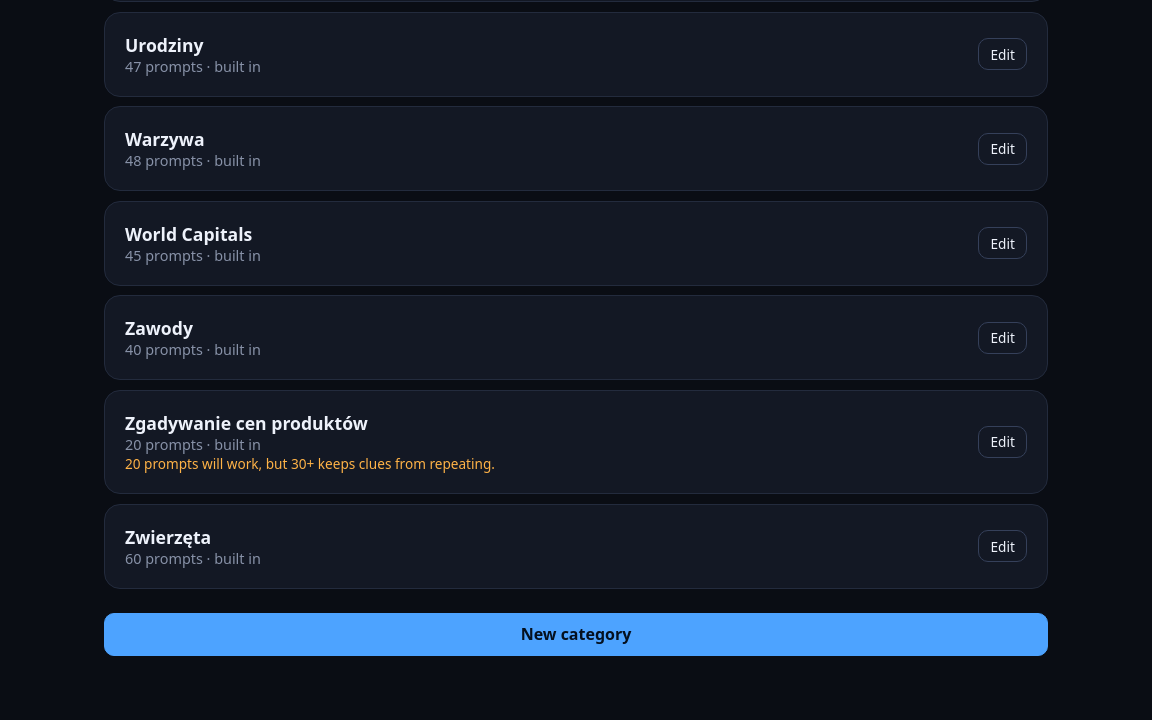
Scenario: CategoryEditorScreen › warns that a thin category cannot be used in a duel
The width and height of the screenshot is (1152, 720).
(page scrolled)
Click the button "New category": x=576, y=634 [104,612,1048,656]
(page scrolled)
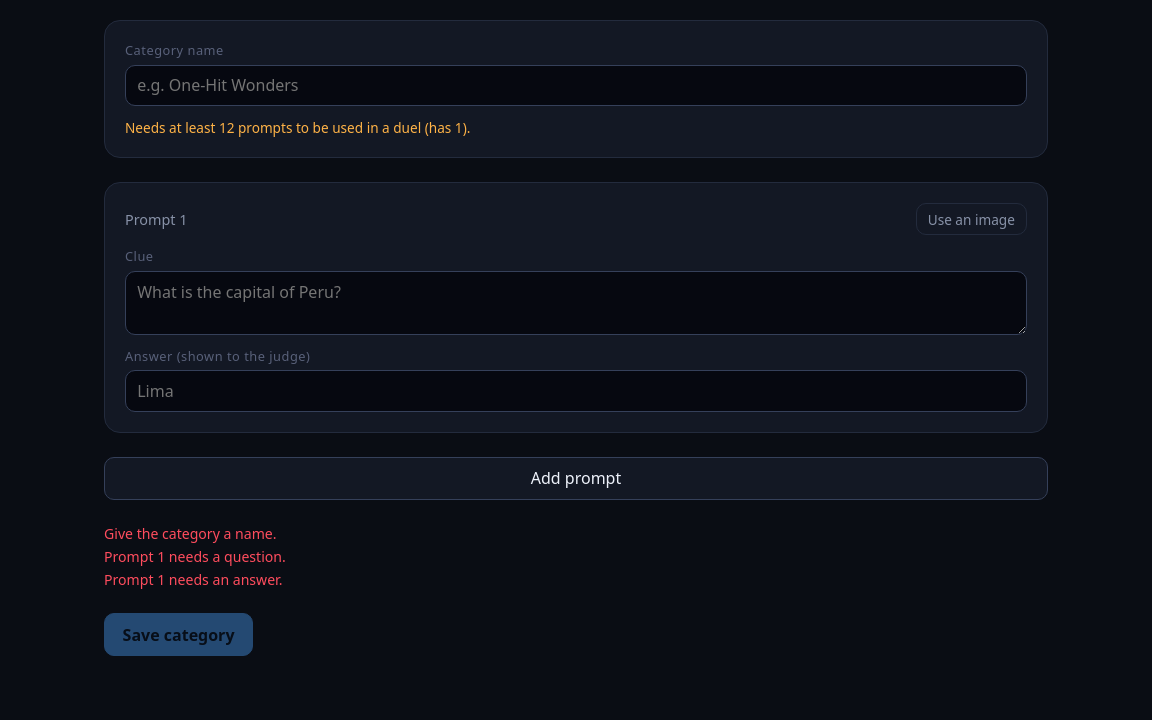
Result: the text "Needs at least 12 prompts to be used in a duel (has 1)." is shown at [125,118,470,137]
